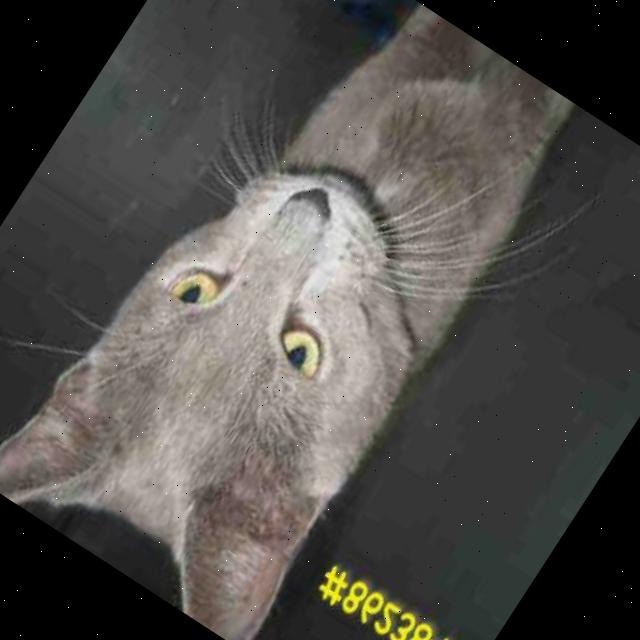cat-eye-normal: (256, 310, 350, 400), (154, 242, 241, 332)
